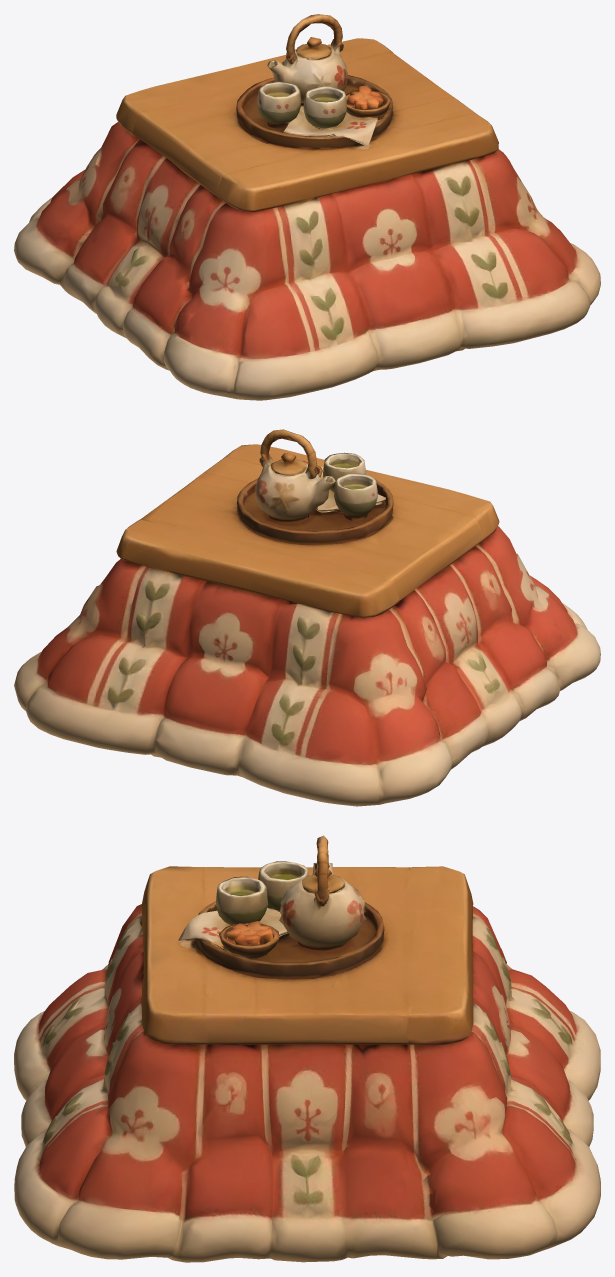
The model's file is kotatsu.glb.
The picture shows the model from 3 angles, top to bottom: view 1: azimuth 30°, elevation 25°; view 2: azimuth 150°, elevation 25°; view 3: azimuth 270°, elevation 25°; orthographic projection. The views are drawn at different scales.
Visible parts, largest first — view 1: tripo_node_ca30a414-9a92-4679-9ddd-2c843ad93beb; view 2: tripo_node_ca30a414-9a92-4679-9ddd-2c843ad93beb; view 3: tripo_node_ca30a414-9a92-4679-9ddd-2c843ad93beb.
Part boxes in pixels (x1,y1,x2,y2): tripo_node_ca30a414-9a92-4679-9ddd-2c843ad93beb: (14,14,600,400); tripo_node_ca30a414-9a92-4679-9ddd-2c843ad93beb: (14,429,600,806); tripo_node_ca30a414-9a92-4679-9ddd-2c843ad93beb: (14,835,600,1262).
Size of the model in its own units: 1 by 0.5974 by 0.9977.
1 material, 1 textured.
